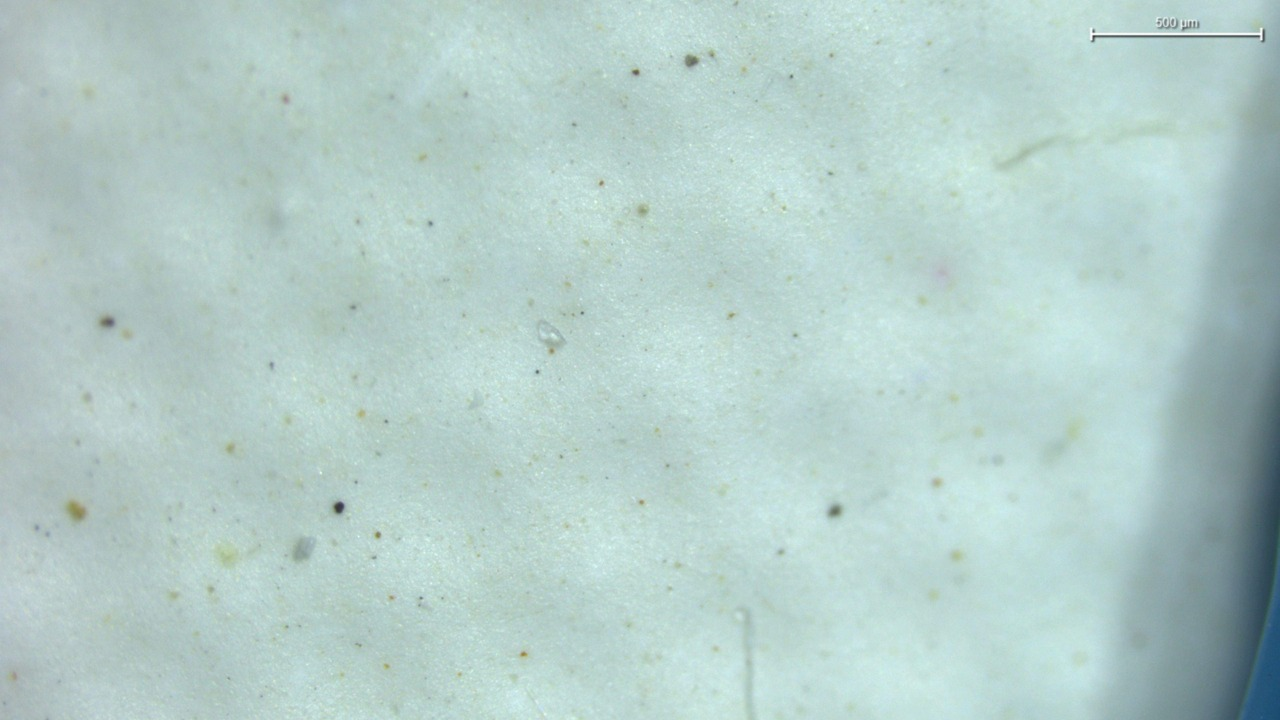microplastic_fragment: (538, 321, 566, 349)
